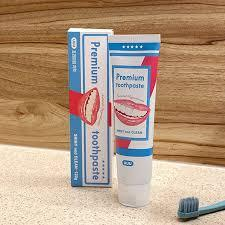toothpaste: (104, 30, 161, 214)
